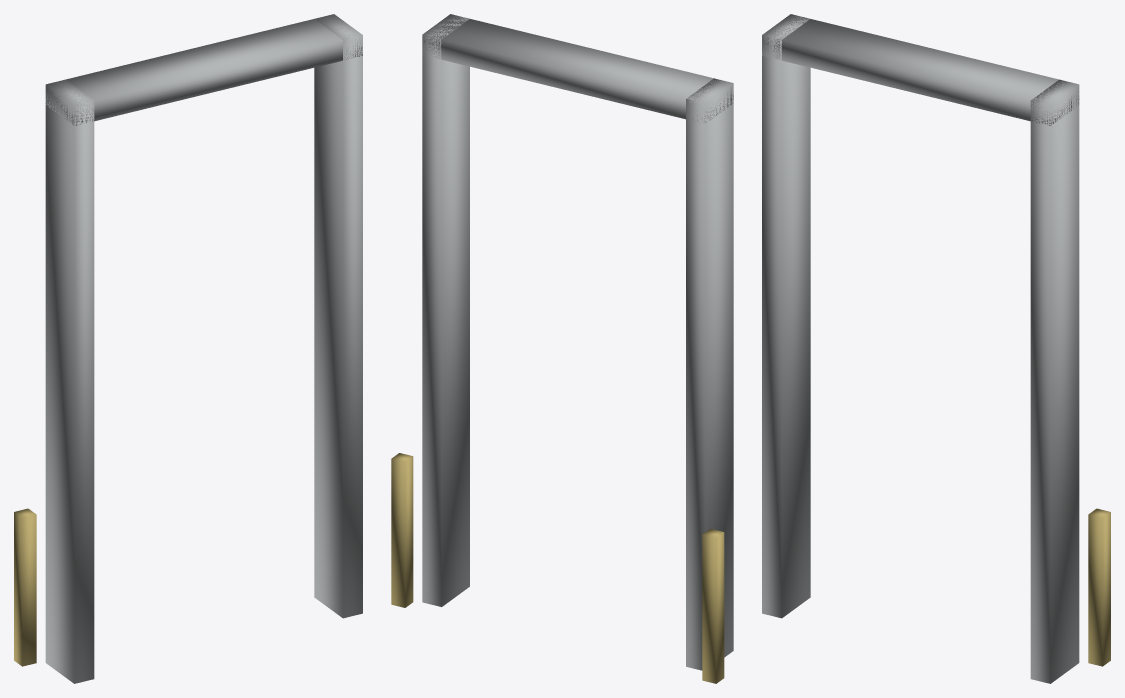
The model's file is atrium_edge_industrial_w140_h300_d28.glb.
3 views of the same model, side by side, from view 1: azimuth 30°, elevation 25°; view 2: azimuth 150°, elevation 25°; view 3: azimuth 330°, elevation 25° (orthographic).
Visible parts, largest first — view 1: world; view 2: world; view 3: world.
Boxes of the visible parts, left/top/right/bottom form: world: left=14, top=14, right=362, bottom=683; world: left=391, top=14, right=733, bottom=683; world: left=762, top=14, right=1110, bottom=683.
Bounding box in the file's own units: 1.86 × 3.11 × 0.38.
